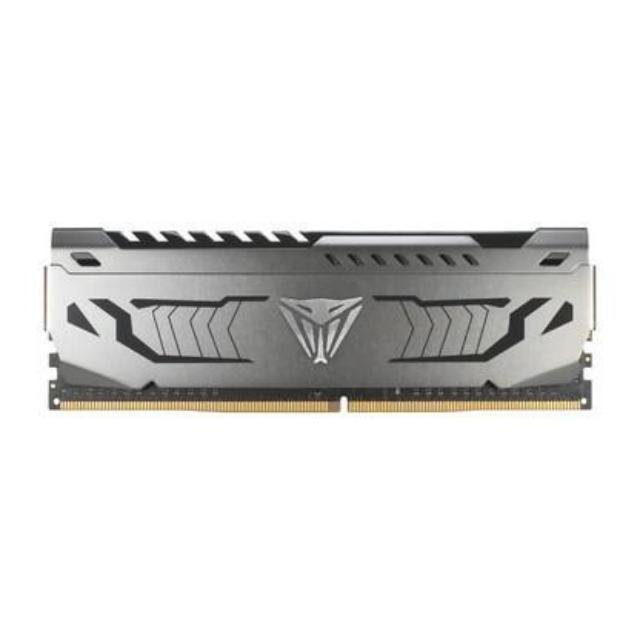RAM: (34, 225, 602, 427)
